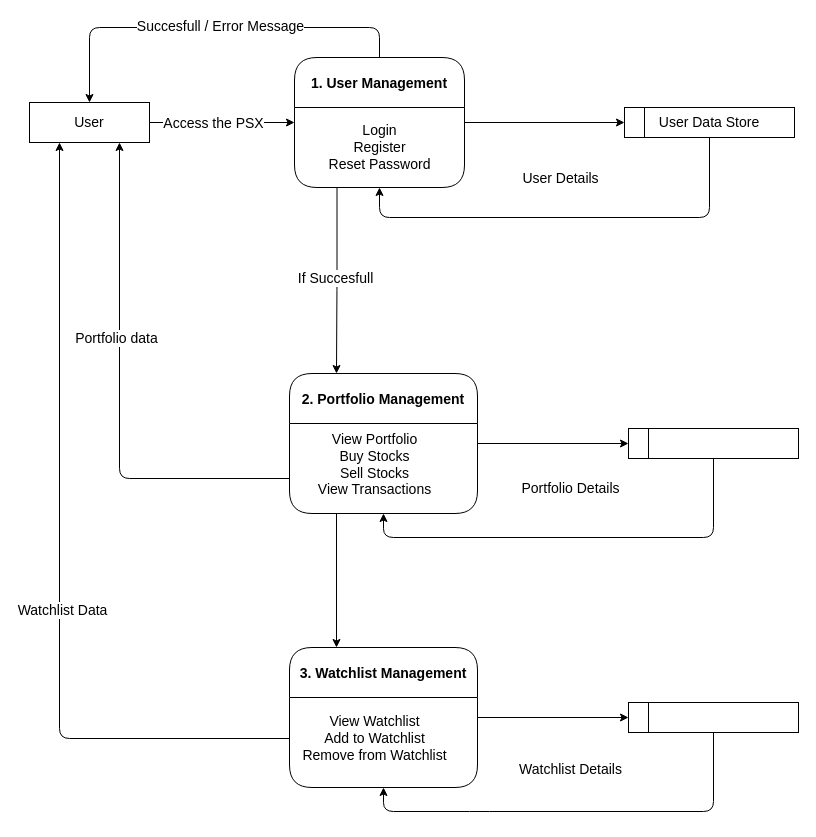
The diagram is 816 pixels wide and 837 high, and some of its shapes have lost their labels. Each missing label, with the centre of its shape:
Portfolio Data Store: (x=713, y=443)
Watchlist Data Store: (x=713, y=717)
